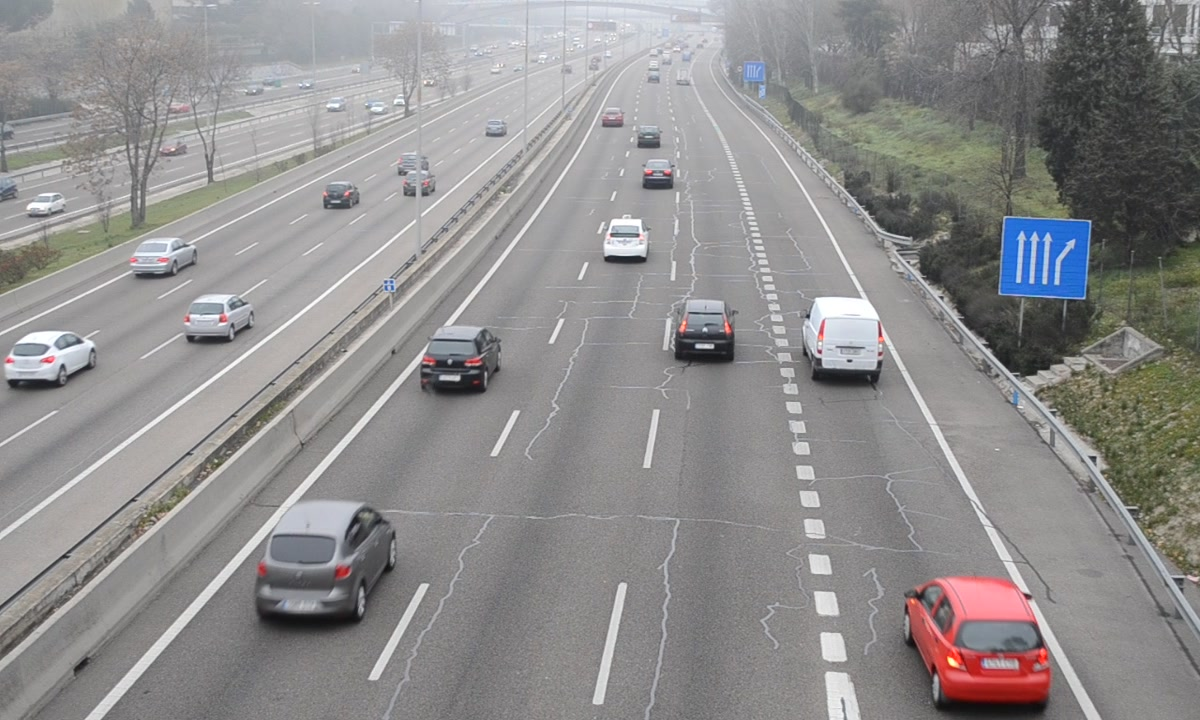car: (904, 578, 1051, 704), (253, 501, 397, 627), (420, 325, 501, 392), (674, 297, 735, 356), (602, 217, 650, 259), (641, 158, 677, 192), (635, 123, 662, 148), (600, 106, 625, 127)
van: (806, 296, 884, 374)
